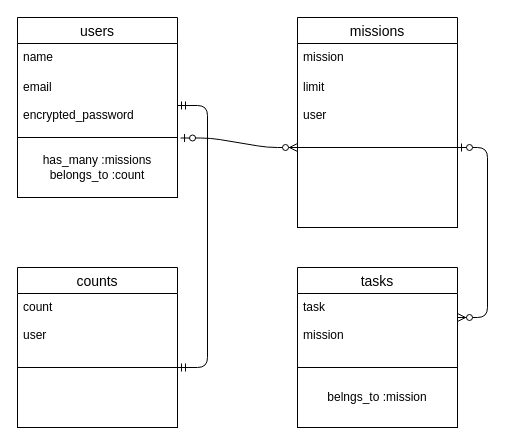
Some shapes in this 514 by 445 pixel diagram are drawn without their labels. The centre of each missing label's shape, as x and y in pixels:
"belngs_to :user" goes at point 97,397.
"belongs_to :user has_,many :tasks belongs_to :user" goes at point 377,187.
